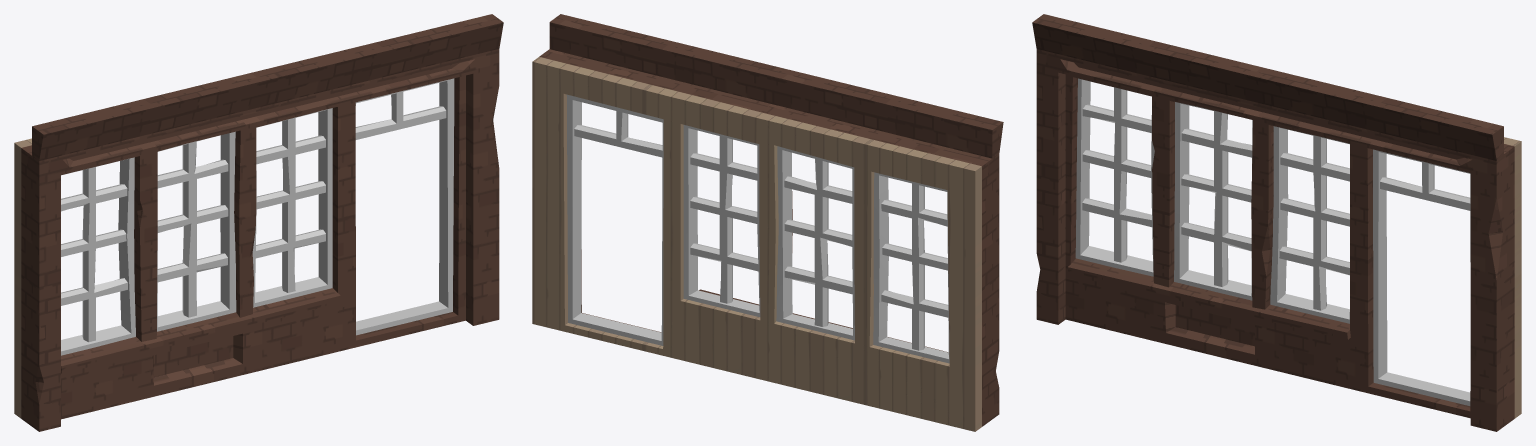
File: SM_Bld_ShopFront_03.obj
3 views of the same model, side by side, from view 1: azimuth 30°, elevation 25°; view 2: azimuth 150°, elevation 25°; view 3: azimuth 330°, elevation 25° (orthographic). The views are drawn at different scales.
Visible parts, largest first — view 1: SM_Bld_ShopFront_03_0, SM_Bld_ShopFront_03_2, SM_Bld_ShopFront_03_1; view 2: SM_Bld_ShopFront_03_1, SM_Bld_ShopFront_03_2, SM_Bld_ShopFront_03_0; view 3: SM_Bld_ShopFront_03_0, SM_Bld_ShopFront_03_2, SM_Bld_ShopFront_03_1.
Boxes of the visible parts, box(x1,y1,x2,y2) form: SM_Bld_ShopFront_03_0: box(21, 14, 503, 431); SM_Bld_ShopFront_03_2: box(61, 78, 454, 355); SM_Bld_ShopFront_03_1: box(14, 138, 31, 418); SM_Bld_ShopFront_03_1: box(532, 57, 981, 431); SM_Bld_ShopFront_03_2: box(566, 94, 949, 363); SM_Bld_ShopFront_03_0: box(539, 14, 1003, 426); SM_Bld_ShopFront_03_0: box(1032, 14, 1514, 431); SM_Bld_ShopFront_03_2: box(1075, 78, 1470, 405); SM_Bld_ShopFront_03_1: box(1504, 137, 1521, 418).
Bounding box in the file's own units: 5 × 3.12 × 0.5538.
